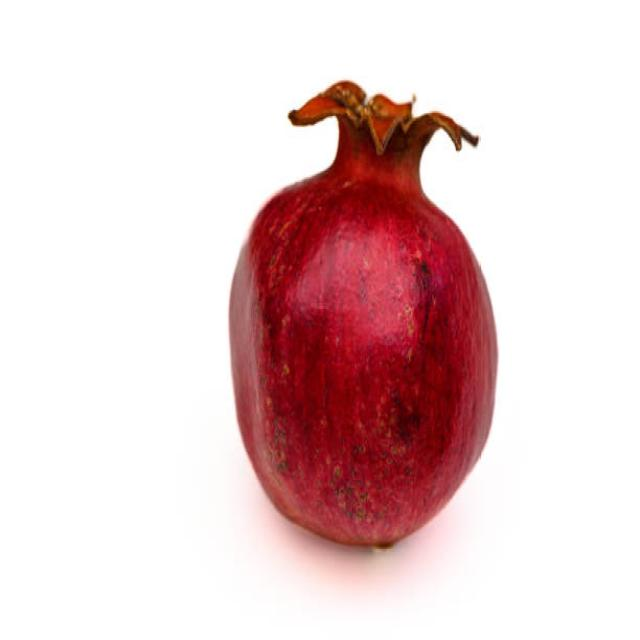overripe: (224, 73, 503, 553)
